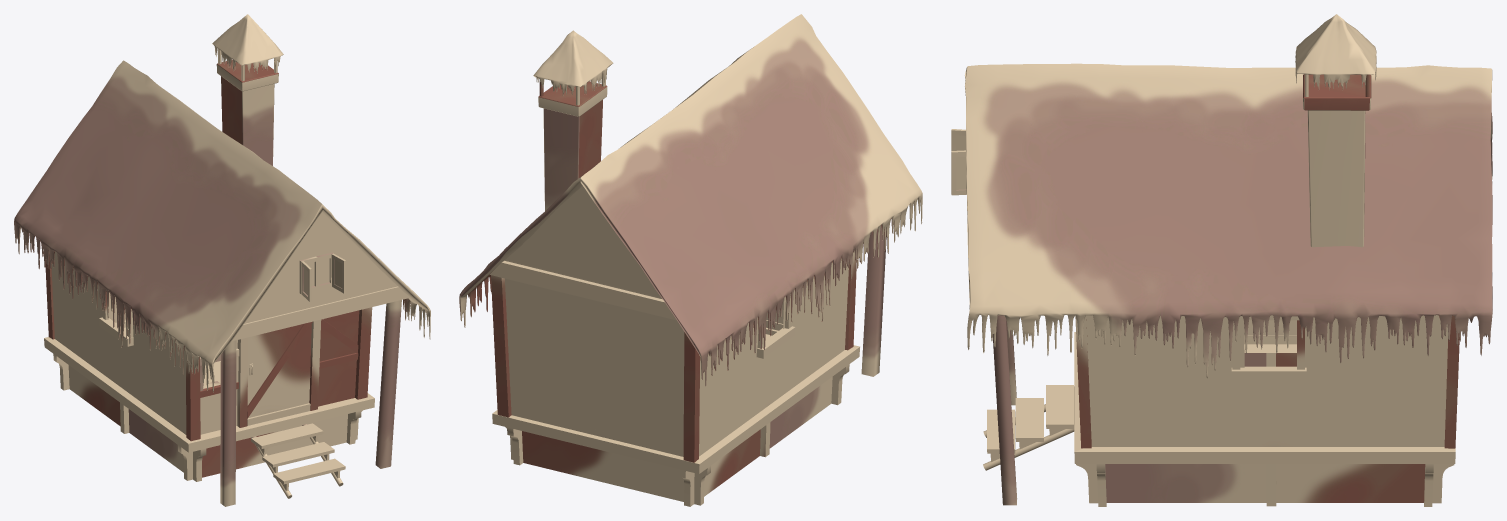
The model's file is house.gltf.
3 renders of one model, left to right at view 1: azimuth 30°, elevation 25°; view 2: azimuth 150°, elevation 25°; view 3: azimuth 270°, elevation 25°, orthographic. The views are drawn at different scales.
Visible parts, largest first — view 1: mesh_id7; view 2: mesh_id7; view 3: mesh_id7.
Part boxes in pixels (bbox=[...]): mesh_id7: bbox=[14, 14, 430, 506]; mesh_id7: bbox=[459, 14, 922, 506]; mesh_id7: bbox=[951, 14, 1492, 506].
Bounding box in the file's own units: 3.25 × 5.12 × 5.21.
Materials: 2 (2 with a texture image).
